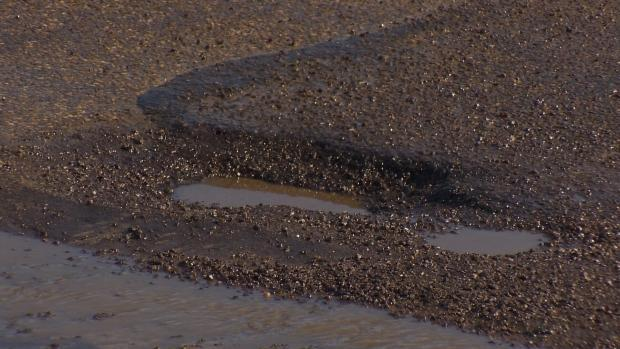pothole: (401, 208, 580, 264), (166, 171, 375, 218)
